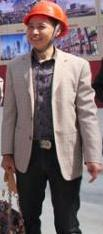boots: (0, 139, 11, 146), (0, 151, 7, 158)
hard-hat: (22, 0, 69, 38)
